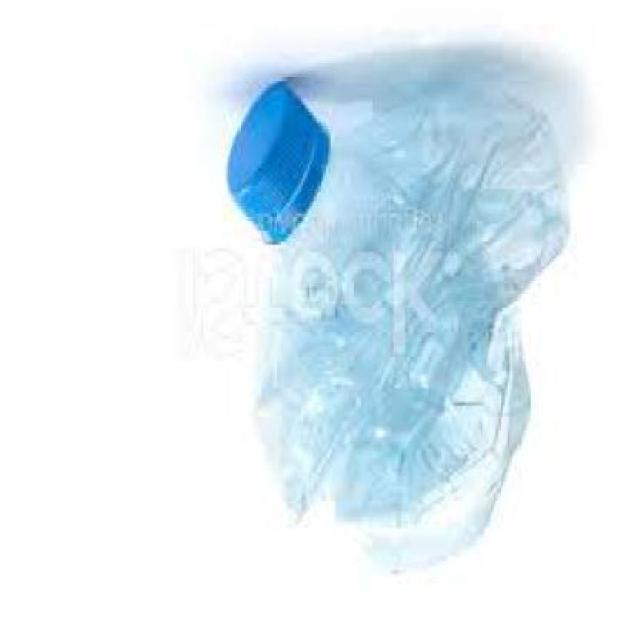PLASTIC: (224, 77, 565, 577), (224, 80, 328, 252)
